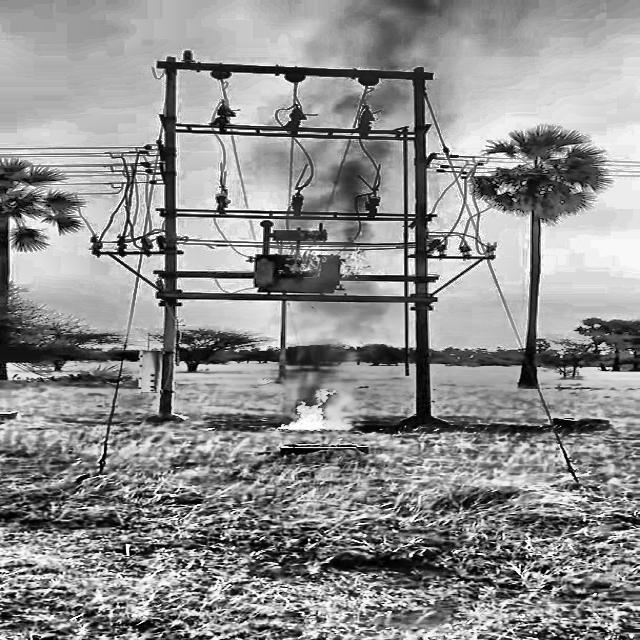Fire: (278, 222, 362, 291), (270, 379, 346, 438)
